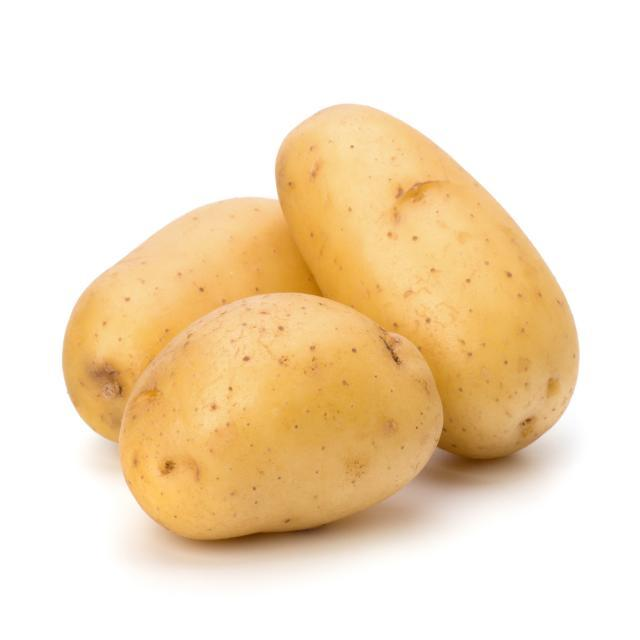potato: (278, 105, 580, 460), (119, 291, 439, 531), (67, 197, 317, 442)
